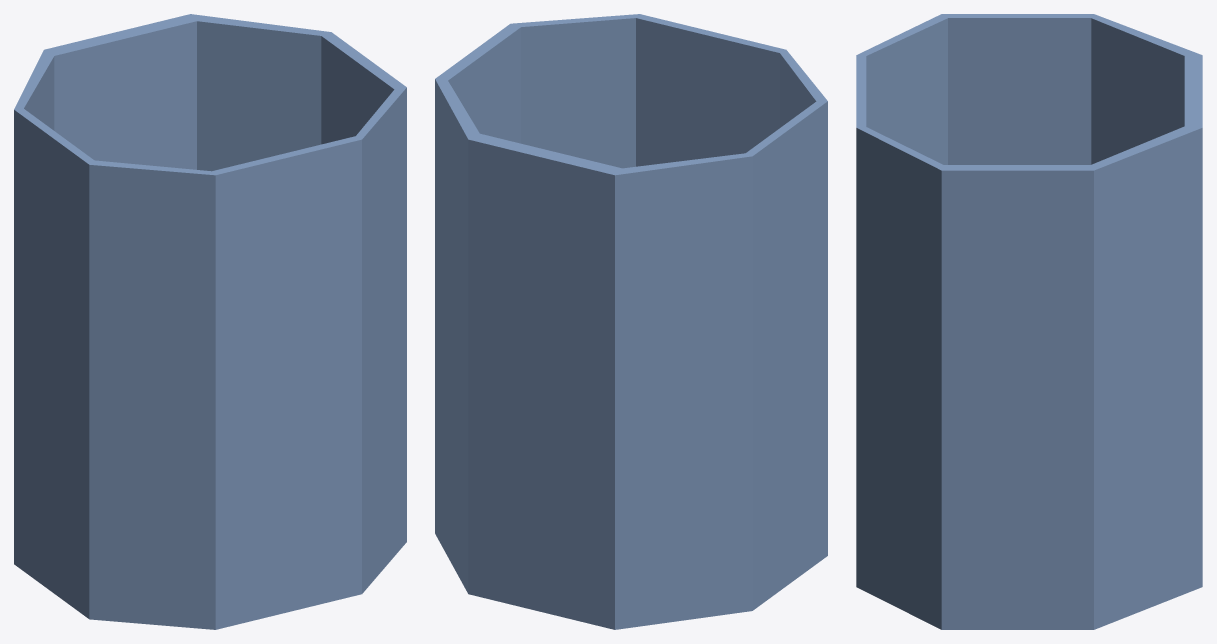
The model's file is cup_glass2.dae.
The picture shows the model from 3 angles, left to right: view 1: azimuth 30°, elevation 25°; view 2: azimuth 150°, elevation 25°; view 3: azimuth 270°, elevation 25°; orthographic projection.
Parts seen in each view (by area): view 1: SketchUp_001, SketchUp_002; view 2: SketchUp_001, SketchUp_002; view 3: SketchUp_001, SketchUp_002.
Part boxes in pixels (left/top/right/bottom): SketchUp_001: left=14, top=14, right=406, bottom=629; SketchUp_002: left=24, top=21, right=394, bottom=171; SketchUp_001: left=435, top=14, right=827, bottom=629; SketchUp_002: left=448, top=18, right=816, bottom=168; SketchUp_001: left=856, top=14, right=1202, bottom=629; SketchUp_002: left=866, top=18, right=1184, bottom=164.
Size of the model in its own units: 0.0818 by 0.0766 by 0.1119.
